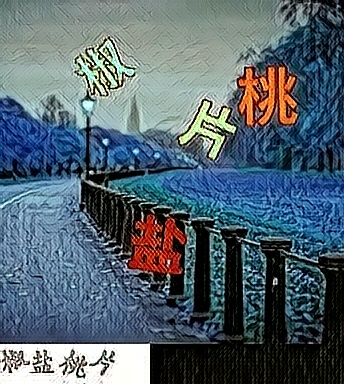BDB7: (75, 38, 136, 103)
C6AC: (175, 97, 236, 162)
CCD2: (236, 63, 297, 128)
D1CE: (126, 214, 187, 279)
